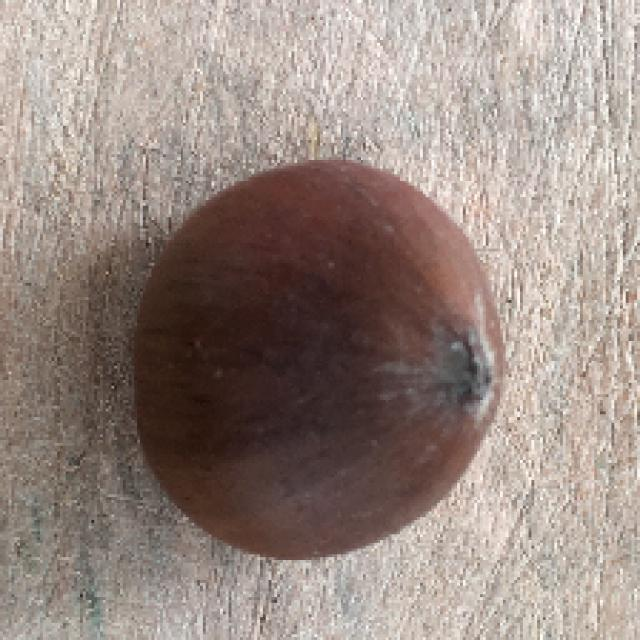damagedHazelnut: (123, 152, 517, 567)
